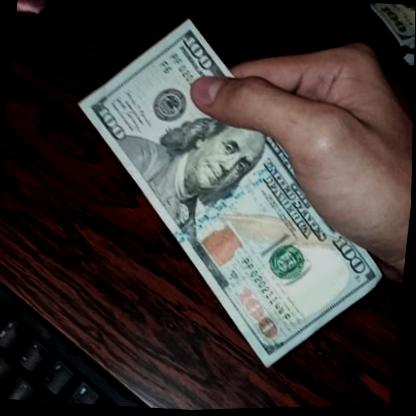dollar_front: (48, 5, 412, 382)
